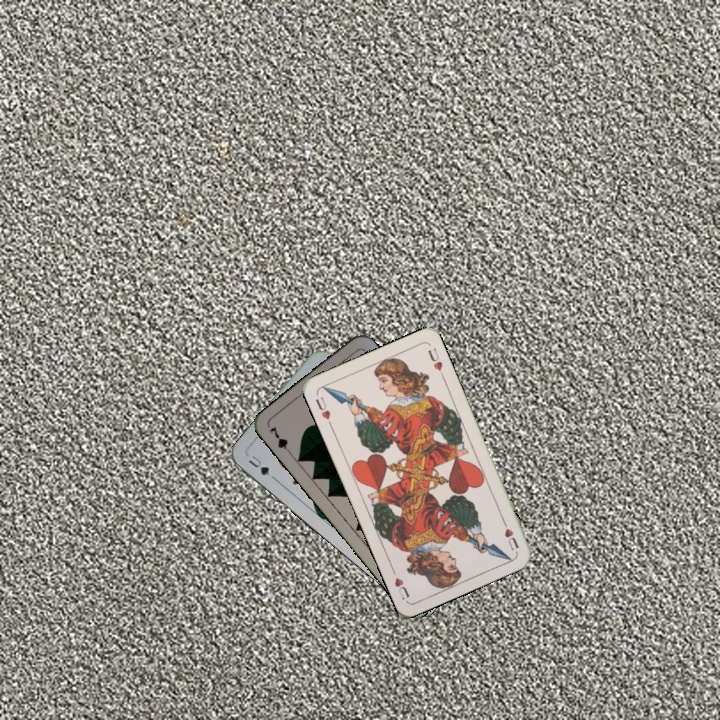G7: (265, 422, 295, 458)
GU: (244, 451, 272, 478)
HU: (498, 515, 522, 553), (311, 393, 335, 429)
